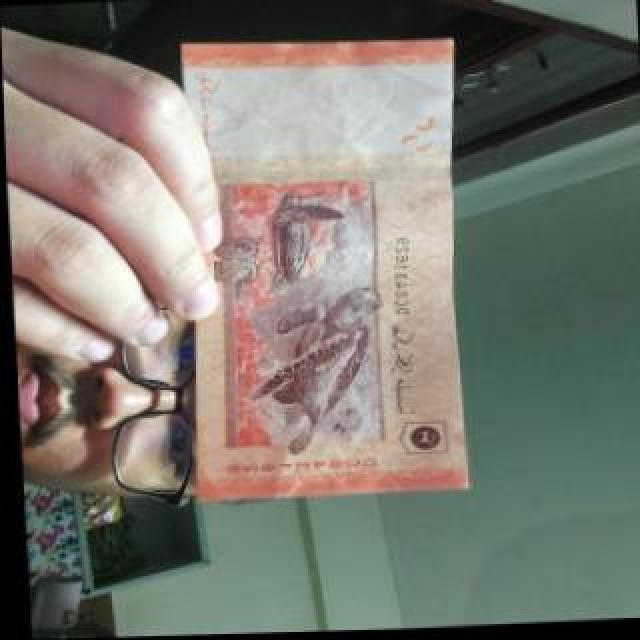20 Ringgit: (168, 36, 462, 511)
